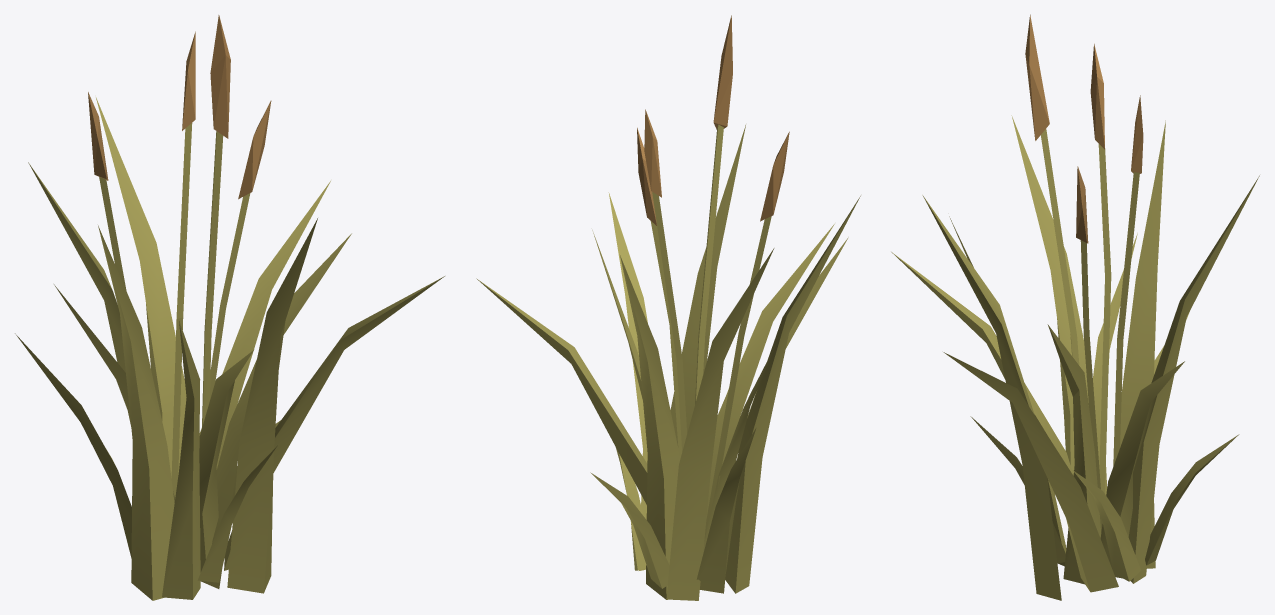
The model's file is Grass4.fbx.
The picture shows the model from 3 angles, left to right: view 1: azimuth 30°, elevation 25°; view 2: azimuth 150°, elevation 25°; view 3: azimuth 270°, elevation 25°; orthographic projection. The views are drawn at different scales.
Visible parts, largest first — view 1: GrassD; view 2: GrassD; view 3: GrassD.
Part boxes in pixels (x1,y1,x2,y2): GrassD: (15,15,444,600); GrassD: (476,15,860,600); GrassD: (891,14,1259,600).
Bounding box in the file's own units: 97.02 × 168 × 101.
